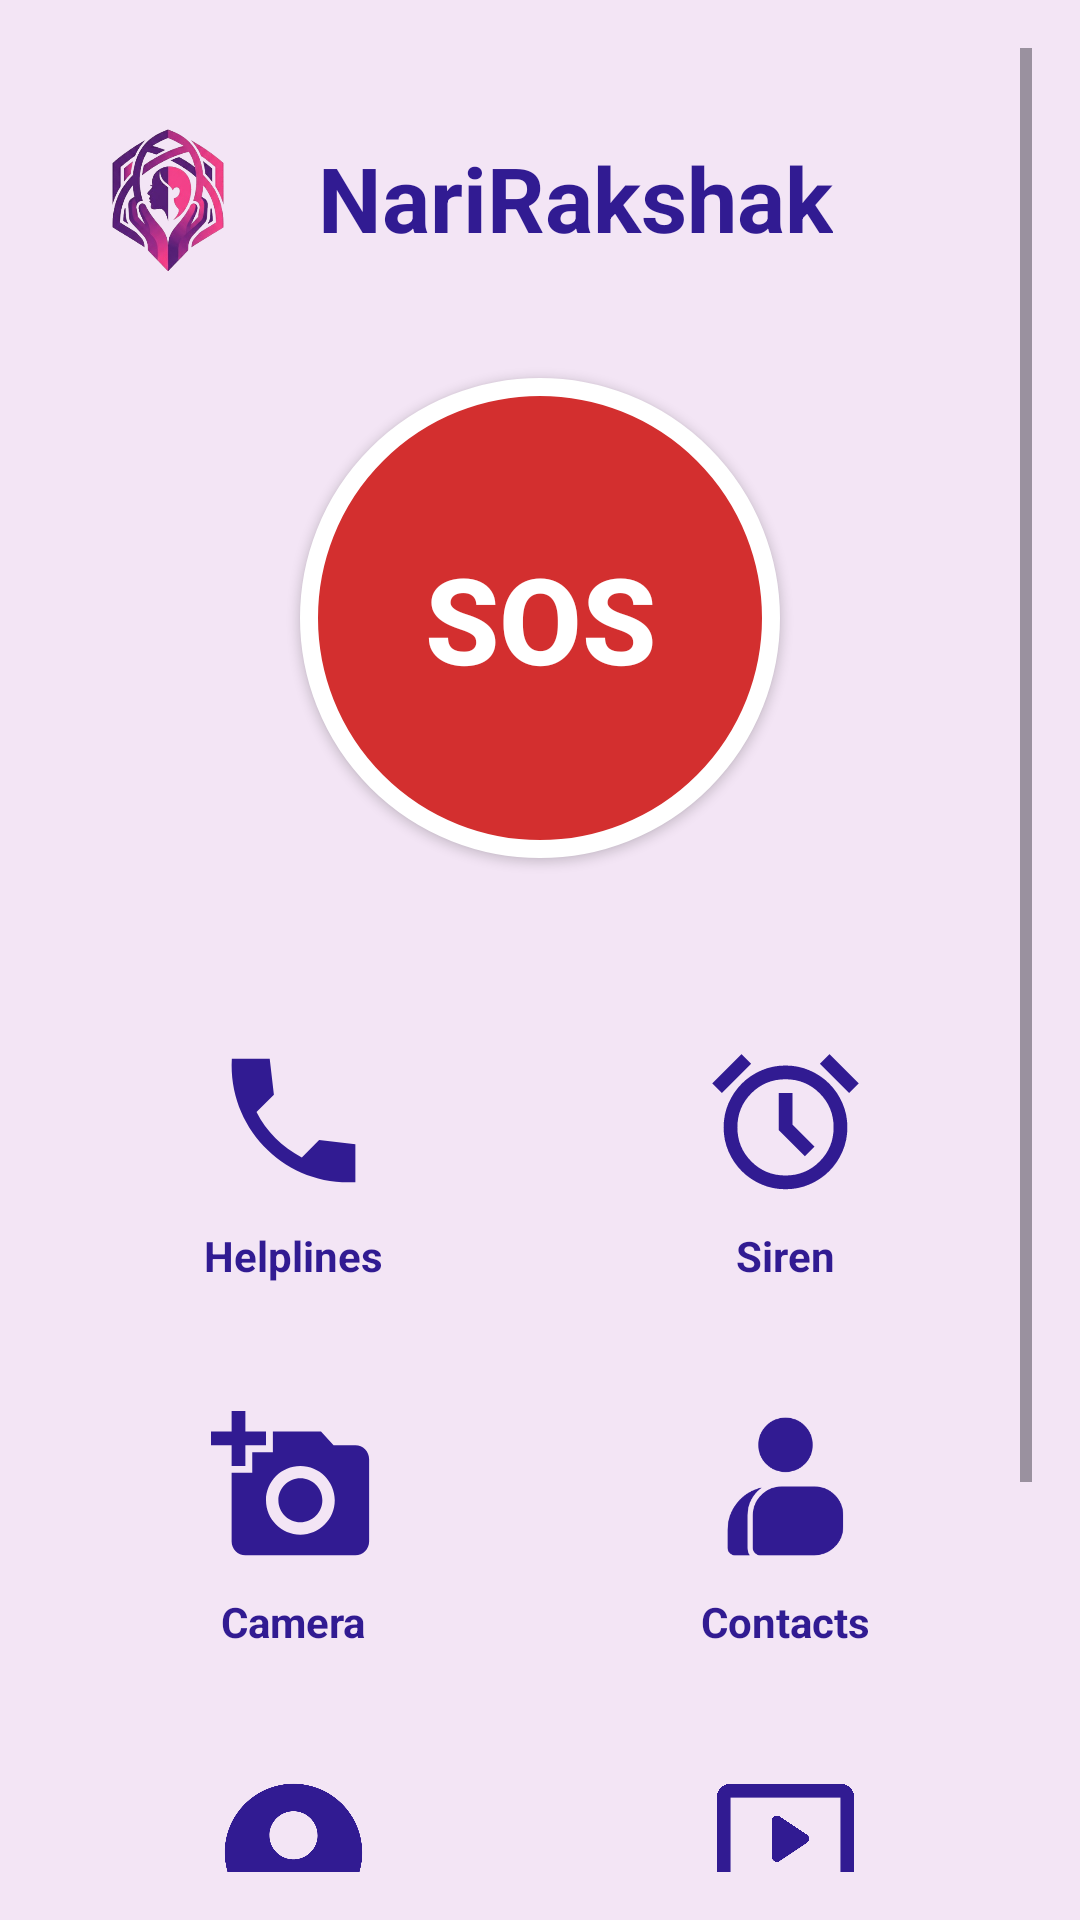

Icons on this 1080 x 1920 Android screen, each with its box as (x1, y1, x2, y2):
add photo: (211, 1411, 370, 1556)
alarm: (712, 1054, 859, 1190)
call: (231, 1058, 356, 1183)
